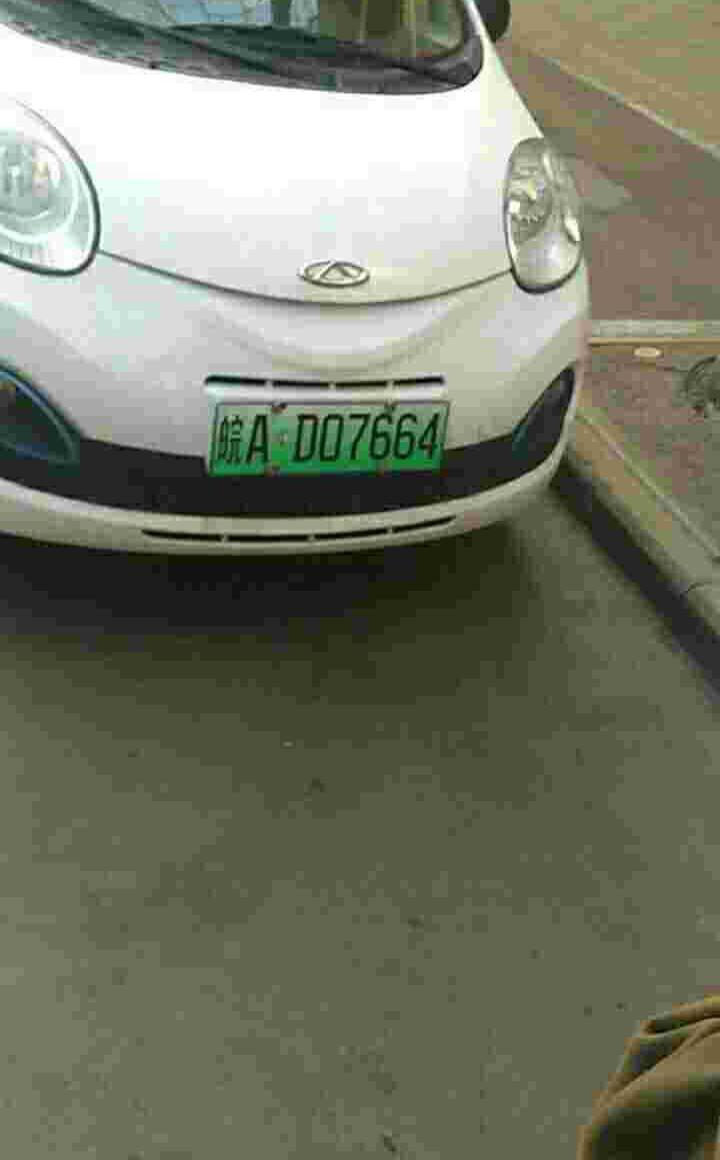car_green: (208, 390, 456, 486)
